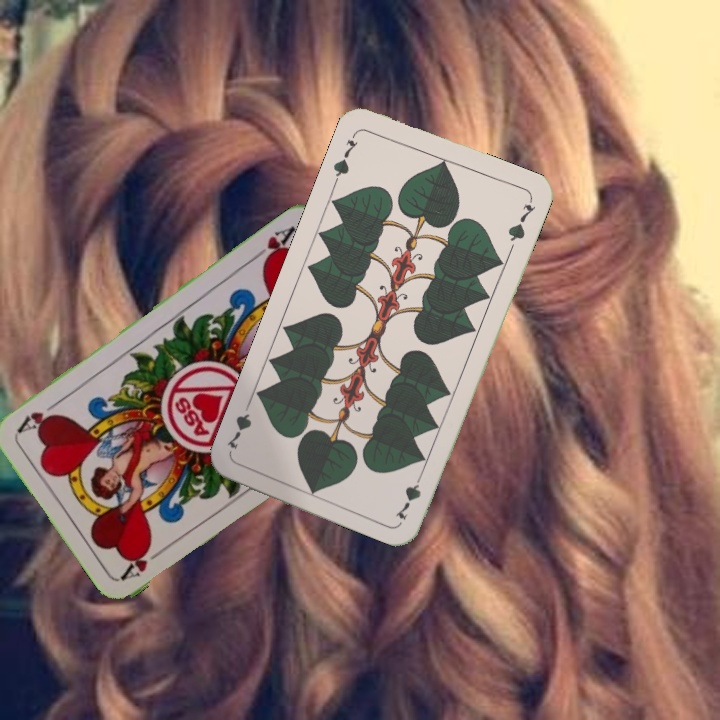G7: (392, 466, 427, 523), (329, 128, 361, 185)
HA: (249, 221, 301, 267), (118, 541, 171, 582)
